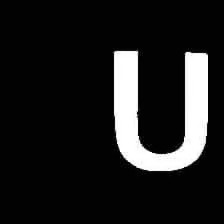LTR_U: (105, 40, 220, 182)
